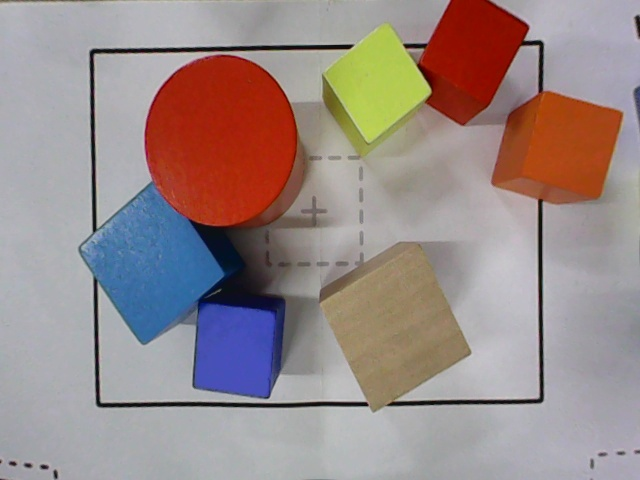upside of big cube: (319, 243, 472, 414), (78, 182, 226, 345)
upside of cylinder: (144, 54, 297, 226)
upside of small cube: (321, 21, 433, 145), (419, 0, 530, 108), (521, 92, 623, 199), (192, 302, 276, 399)
